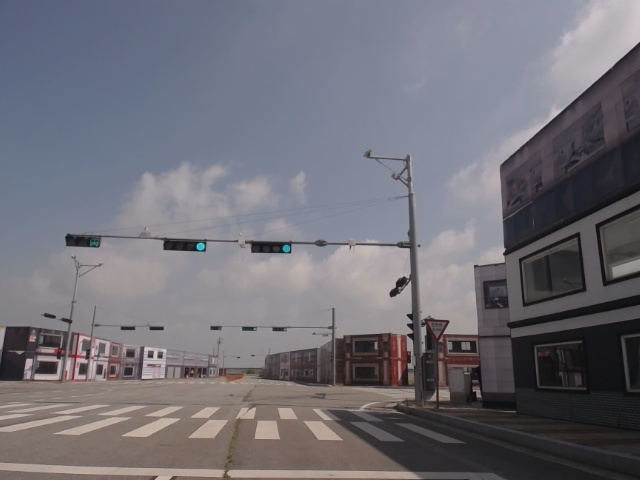straight_green_4: (163, 239, 205, 252), (252, 242, 292, 255)
